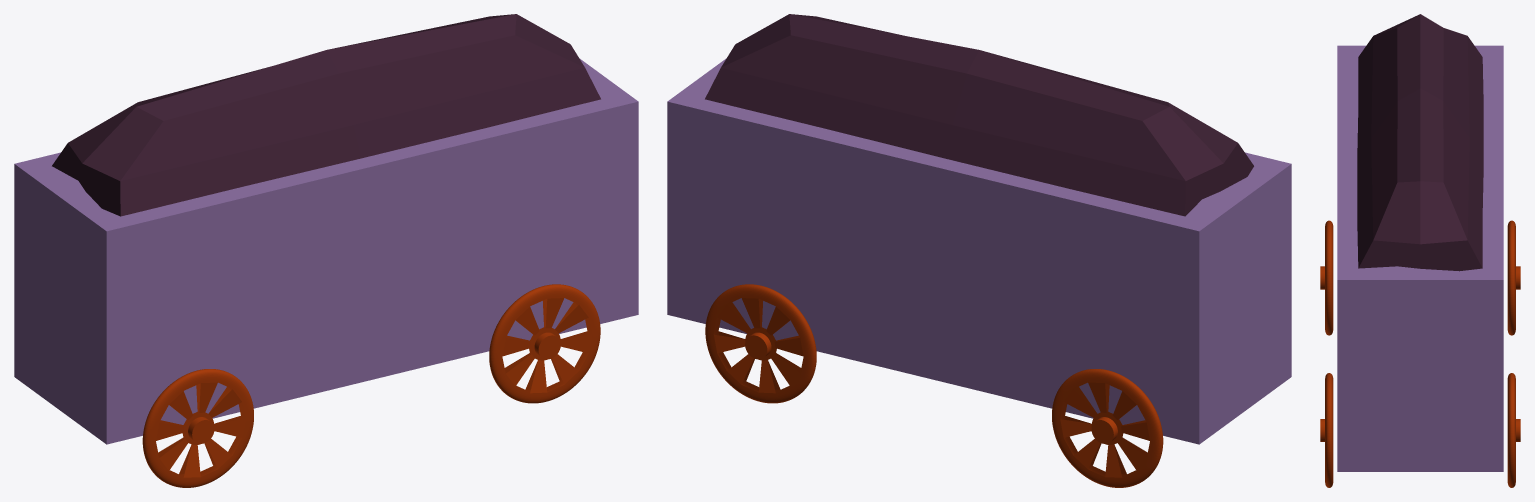
File: Buggy Train.fbx
The picture shows the model from 3 angles, left to right: view 1: azimuth 30°, elevation 25°; view 2: azimuth 150°, elevation 25°; view 3: azimuth 270°, elevation 25°; orthographic projection. The views are drawn at different scales.
Visible parts, largest first — view 1: Cube.011, Cube.012, Cylinder.010, Cylinder.008; view 2: Cube.011, Cube.012, Cylinder.011, Cylinder.009; view 3: Cube.011, Cube.012, Cylinder.008, Cylinder.009, Cylinder.010, Cylinder.011.
Part boxes in pixels (box(x1,y1,x2,y2)): Cube.011: box(14, 58, 638, 444); Cube.012: box(52, 14, 600, 216); Cylinder.010: box(489, 284, 600, 403); Cylinder.008: box(142, 369, 253, 487); Cube.011: box(667, 58, 1291, 444); Cube.012: box(705, 14, 1253, 216); Cylinder.011: box(705, 284, 816, 403); Cylinder.009: box(1052, 369, 1163, 487); Cube.011: box(1337, 45, 1503, 471); Cube.012: box(1357, 14, 1483, 271); Cylinder.008: box(1320, 220, 1333, 335); Cylinder.009: box(1507, 220, 1520, 335); Cylinder.010: box(1320, 373, 1333, 487); Cylinder.011: box(1507, 373, 1520, 487).
Bounding box in the file's own units: 2459 × 1571 × 889.
